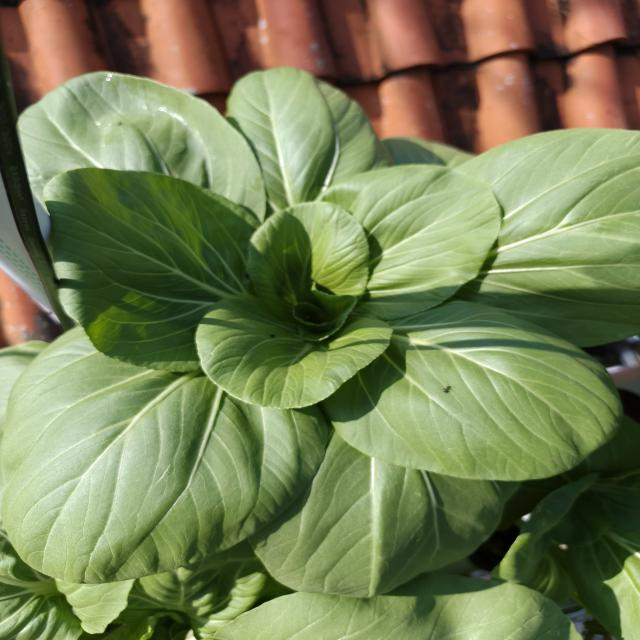daun-pakcoy: (2, 328, 328, 583), (323, 302, 621, 481), (45, 168, 258, 372), (261, 433, 511, 596), (455, 129, 640, 347), (19, 71, 266, 221), (321, 164, 501, 320), (228, 68, 390, 210), (197, 296, 397, 408), (248, 203, 370, 323), (376, 136, 475, 169)
